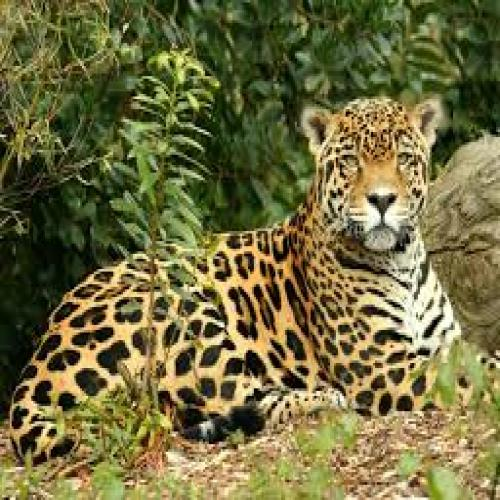jaguar_not-endangered: (14, 96, 500, 464)
